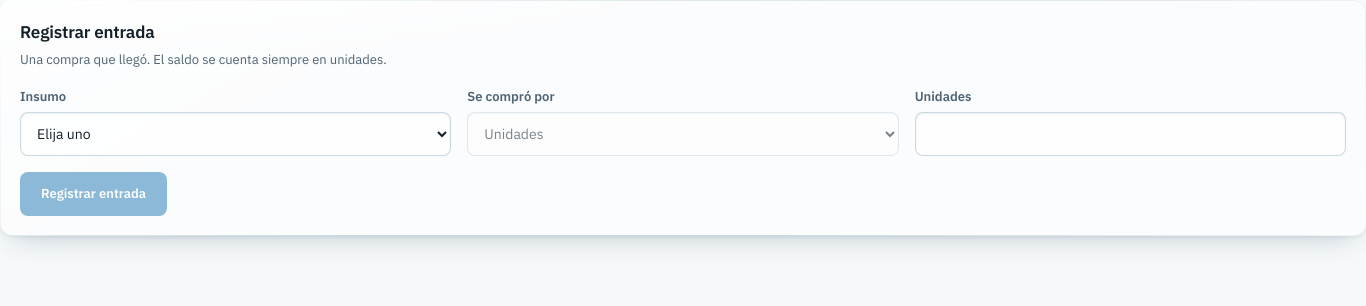
Test: EntradaDeInsumo — la conversión se muestra antes de confirmar › avisa por qué la compra va en unidades cuando falta la medición
Select "ETI — Etiquetas" in the dropdown labelled "Insumo" at (236, 134), box [20, 112, 451, 156]
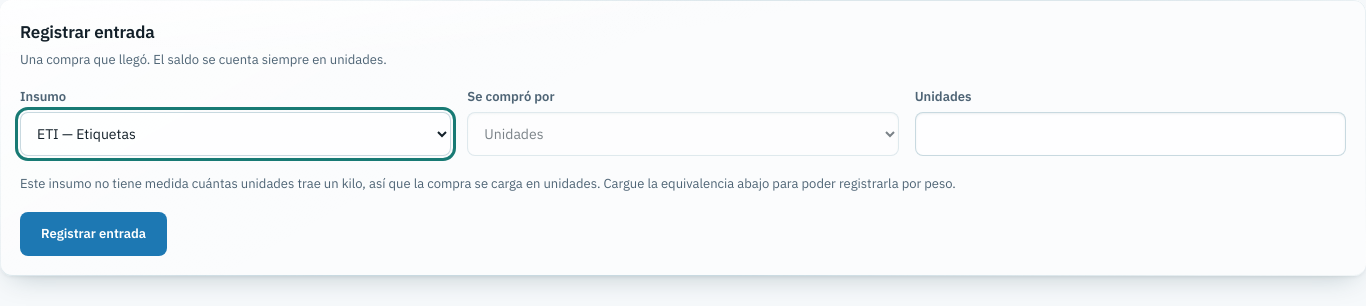
Expected: the text "Cargue la equivalencia abajo" is shown, [20, 175, 956, 192]
